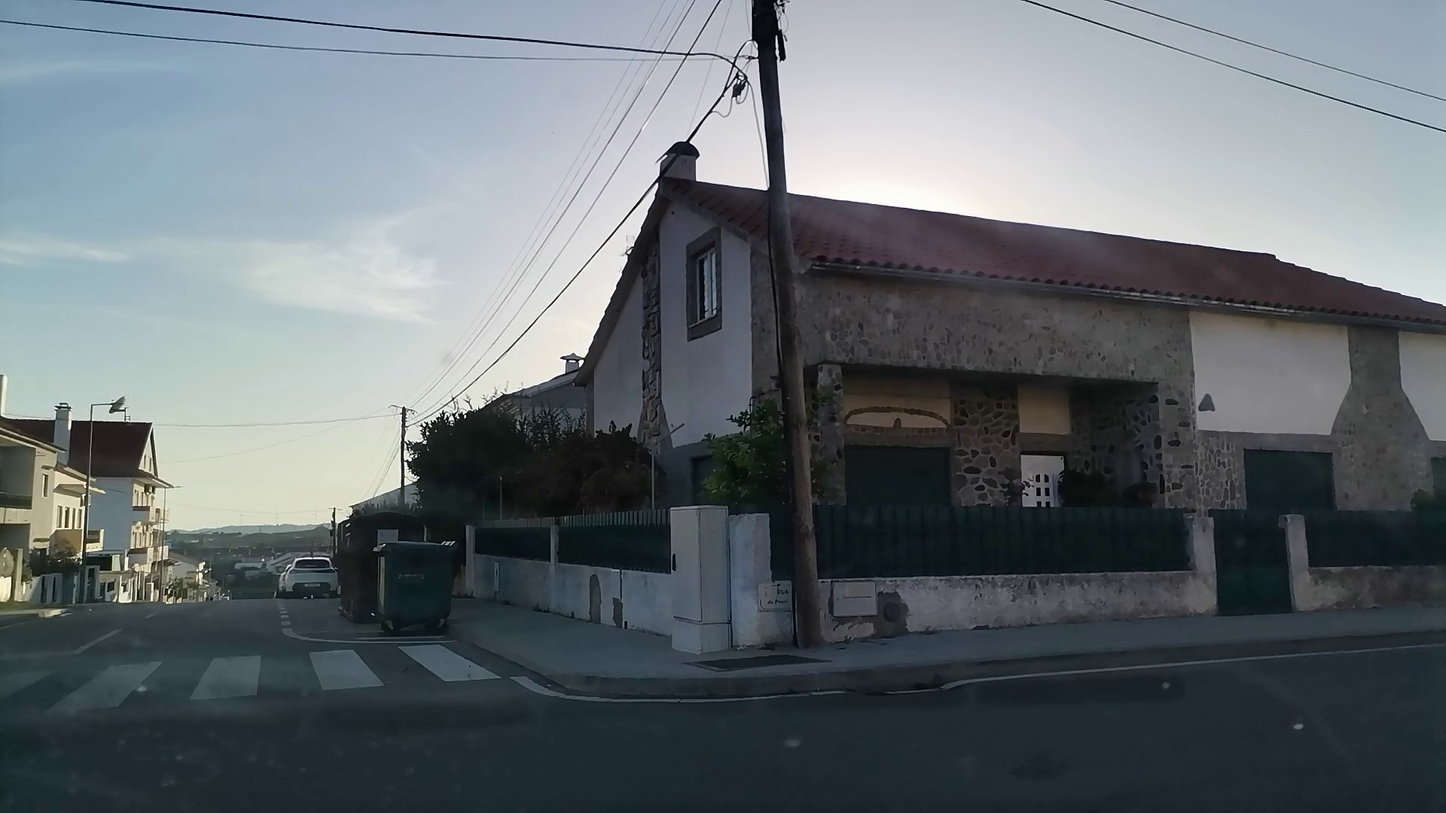Stairs: (0, 642, 506, 713)
